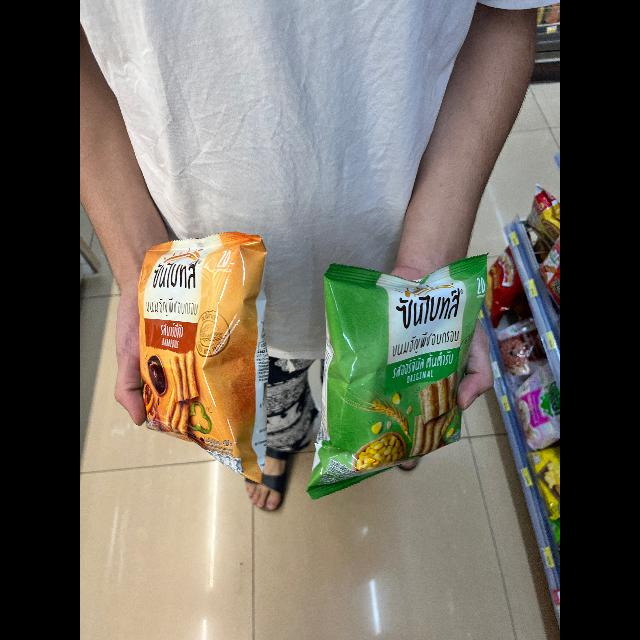snack_bag: (300, 250, 496, 494), (133, 223, 279, 484)
